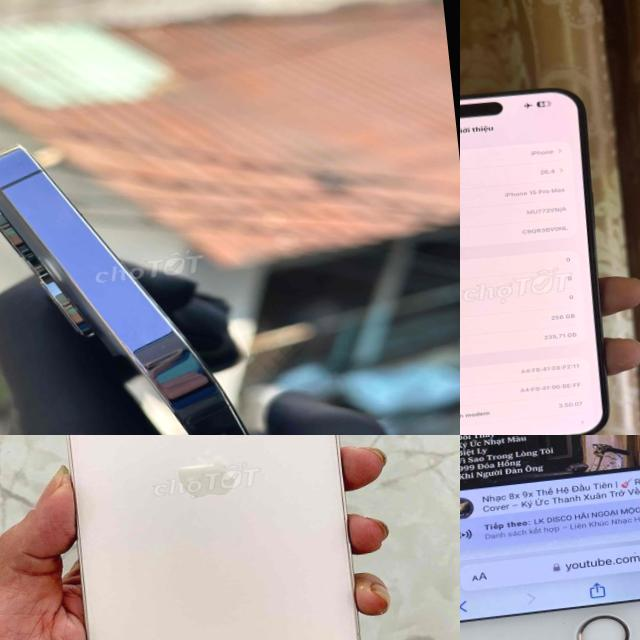gen_12_13: (45, 435, 373, 640)
gen_14: (0, 145, 248, 435)
gen_15: (460, 75, 618, 435)
gen_6: (460, 435, 640, 640)
screen_defect: (575, 628, 637, 640)
